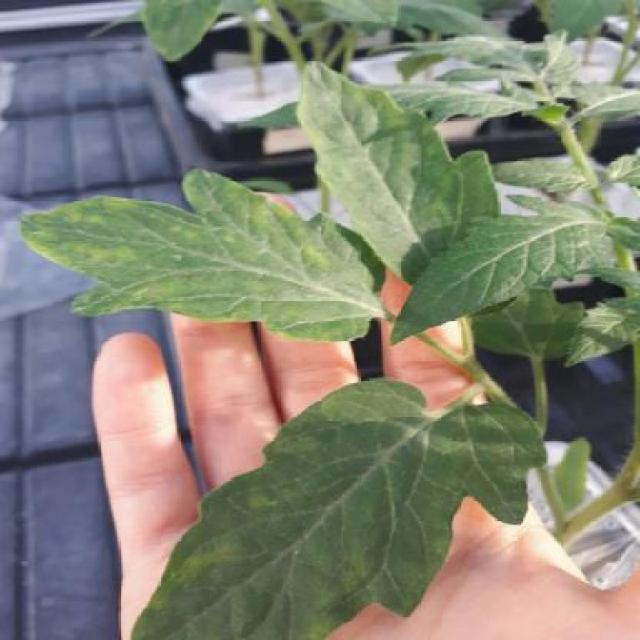Leaf Mold: (15, 166, 392, 339)
